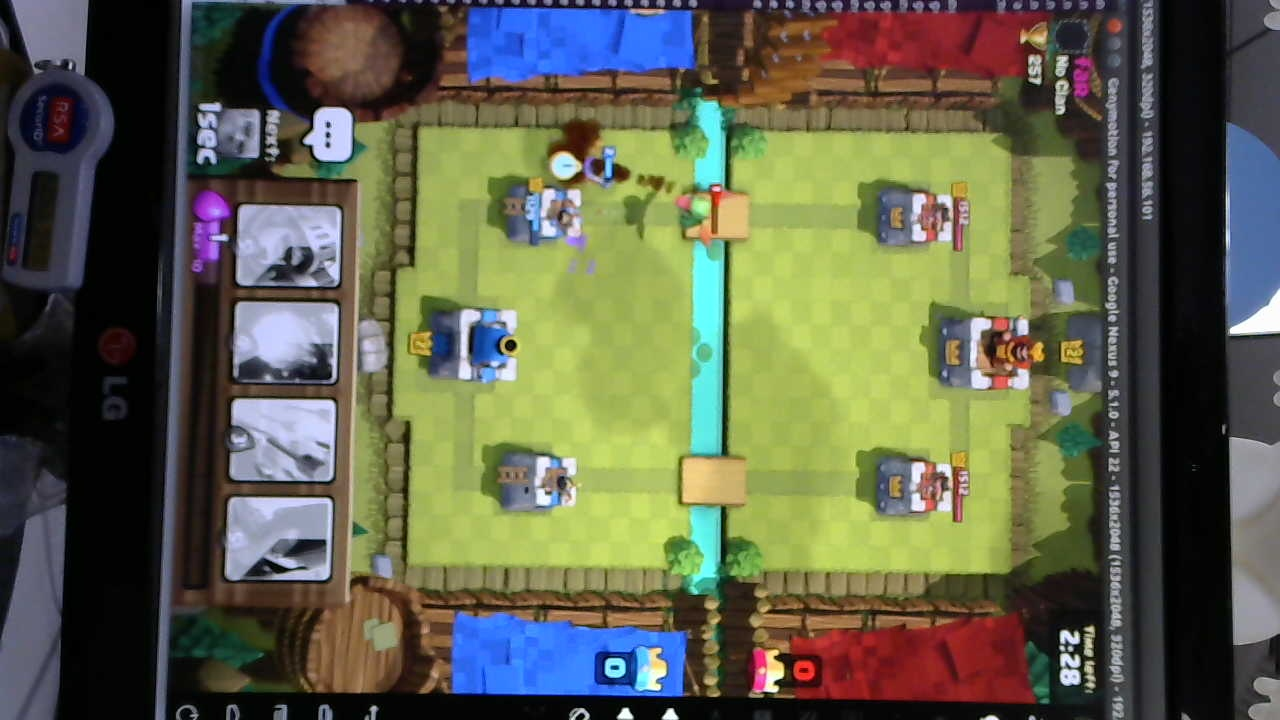arena: (496, 447, 583, 517), (508, 183, 586, 247)
dragon: (667, 186, 715, 239)
earena: (870, 454, 955, 524), (874, 188, 954, 249)
eking: (936, 307, 1042, 393)
king: (438, 303, 522, 388)
musketeer: (571, 146, 612, 194)
